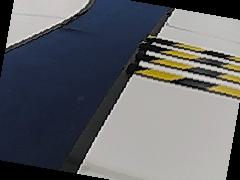bump: (135, 34, 236, 101)
